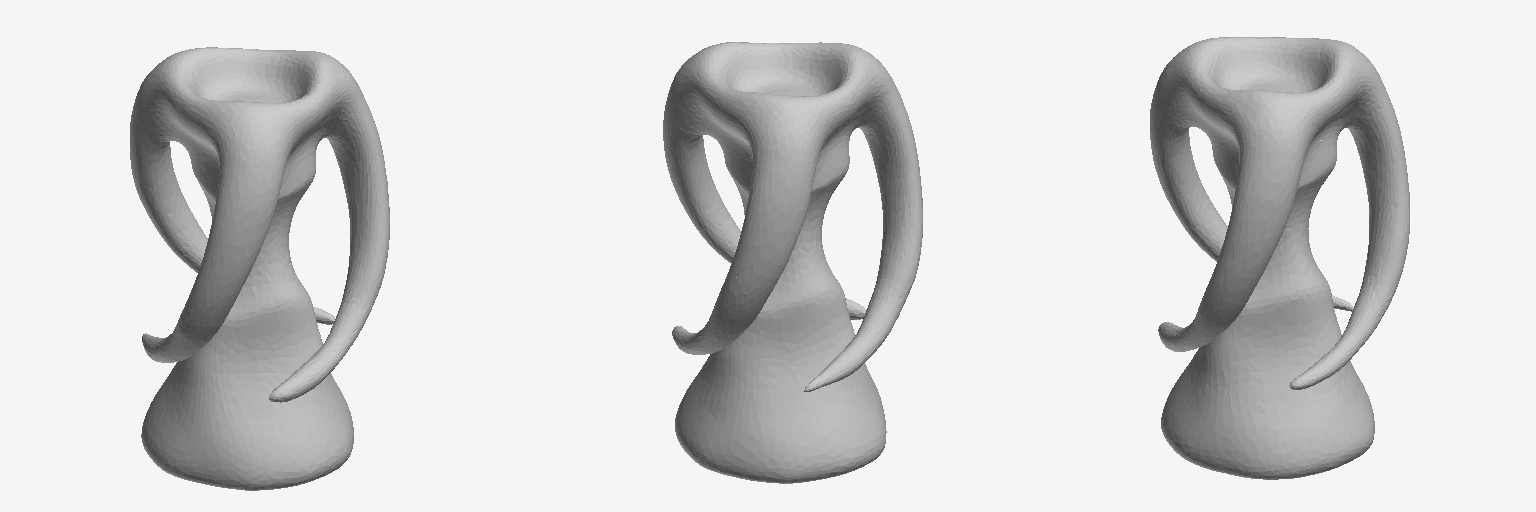
File: move-simple.obj
3 renders of one model, left to right at view 1: azimuth 30°, elevation 25°; view 2: azimuth 150°, elevation 25°; view 3: azimuth 270°, elevation 25°, orthographic.
Parts seen in each view (by area): view 1: Quad_Sphere; view 2: Quad_Sphere; view 3: Quad_Sphere.
Part boxes in pixels (x1,y1,x2,y2): Quad_Sphere: (130,47,389,490); Quad_Sphere: (663,42,922,483); Quad_Sphere: (1150,37,1409,479).
Bounding box in the file's own units: 3.66 × 6 × 3.71.